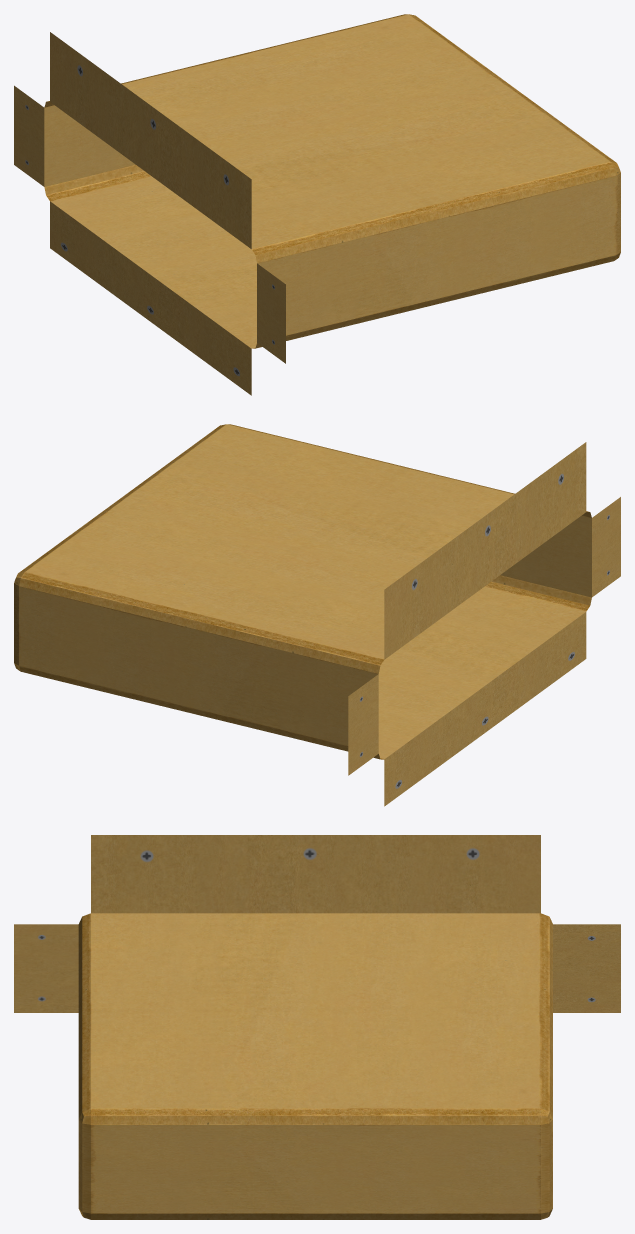
File: Platform.fbx
3 views of the same model, one above another, from view 1: azimuth 30°, elevation 25°; view 2: azimuth 150°, elevation 25°; view 3: azimuth 270°, elevation 25° (orthographic). The views are drawn at different scales.
Parts seen in each view (by area): view 1: pCube1; view 2: pCube1; view 3: pCube1.
Part boxes in pixels (x1=…): pCube1: x1=14, y1=14, x2=620, y2=395; pCube1: x1=14, y1=424, x2=620, y2=806; pCube1: x1=14, y1=835, x2=620, y2=1219.
Size of the model in its own units: 3 by 1.69 by 3.84.
